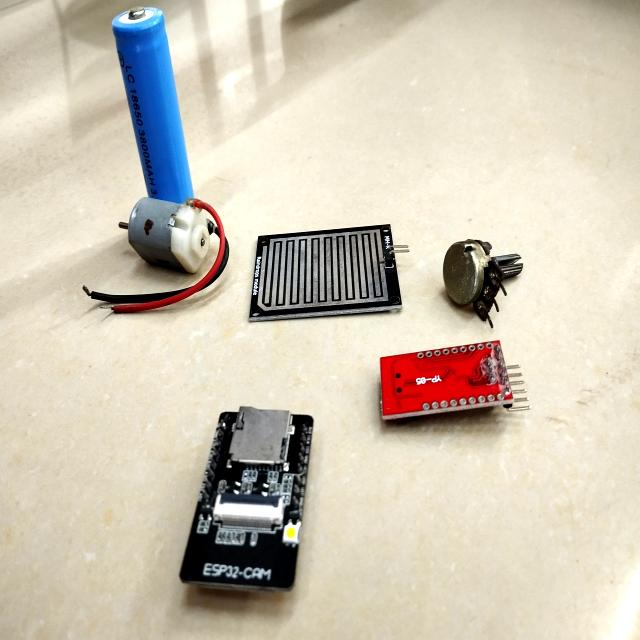3-3-Volt-Battery: (109, 4, 201, 215)
DC-Motor: (119, 194, 215, 274)
ESP32-CAM: (174, 402, 315, 605)
FT-232-USB-Serial-Module: (377, 336, 532, 427)
Raindrops-Module: (245, 220, 414, 324)
Taper-Potentiometer: (442, 234, 525, 330)
